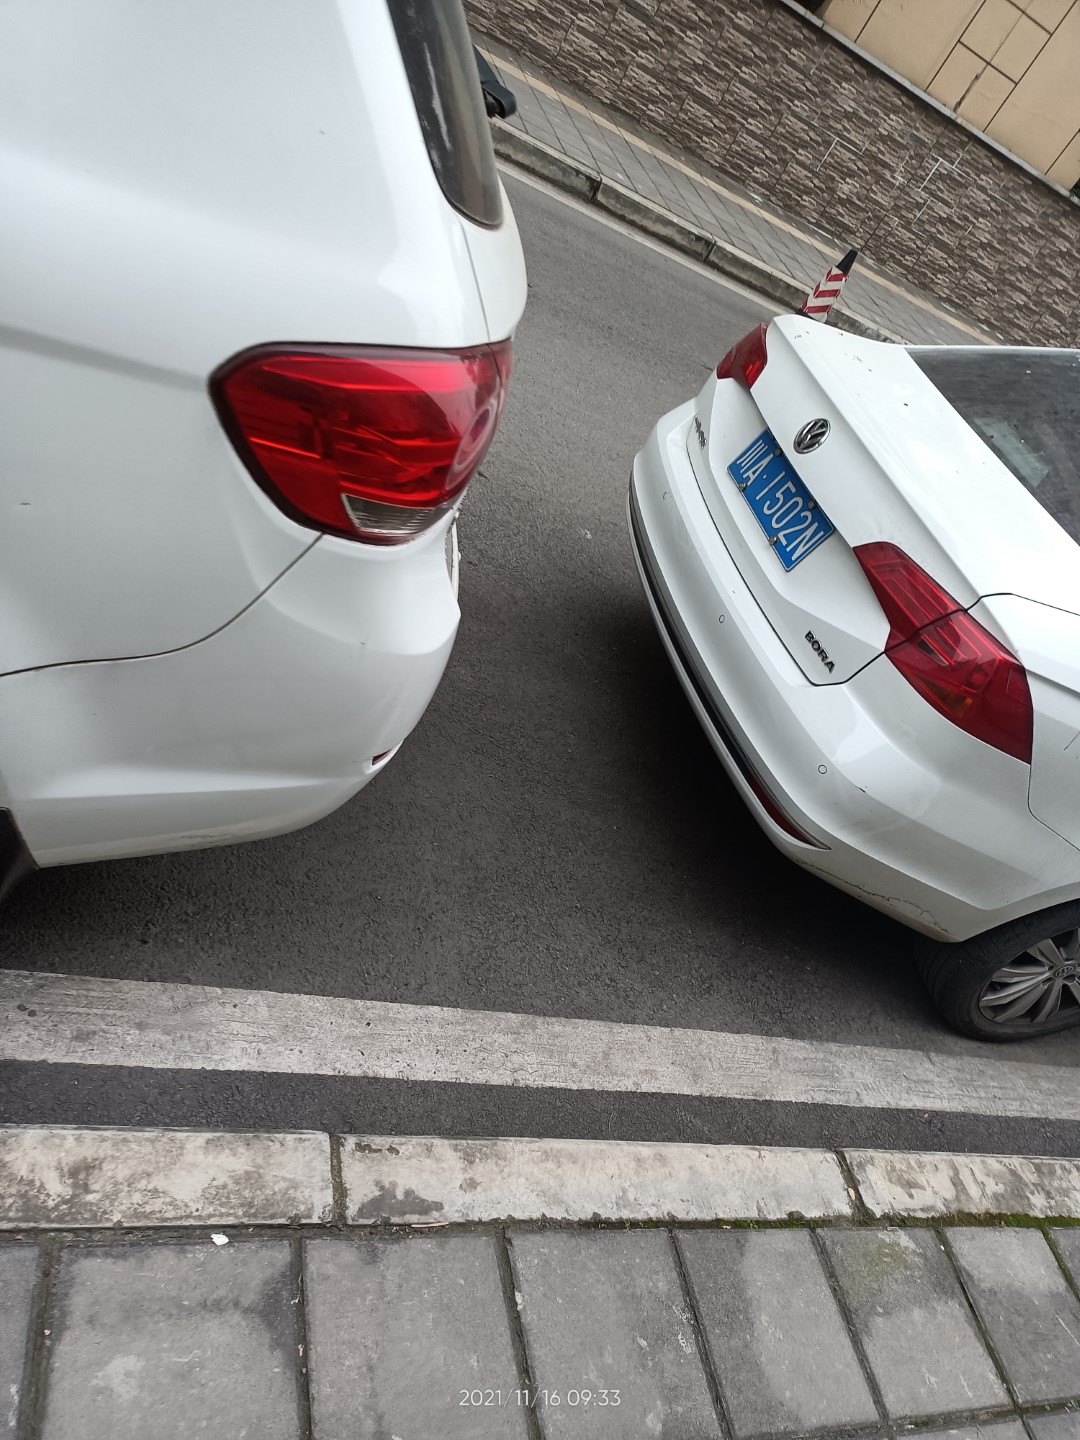plate: (727, 426, 839, 571)
